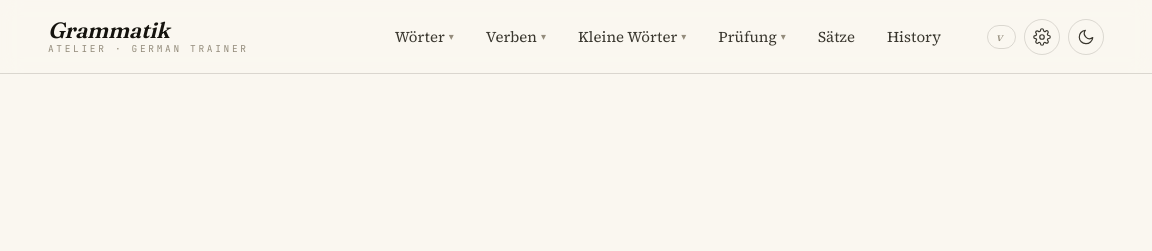
Scenario: NavShell › closes an open panel on Escape
Click the button with class "nav-trigger" showing "Verben ▾" at (516, 36), box top-left (472, 18), bottom-right (560, 55)
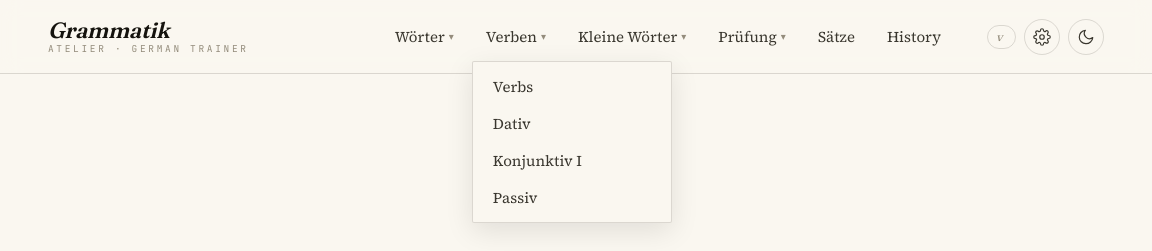
Check: the number of menus with class "nav-panel" is 1, box top-left (472, 61), bottom-right (672, 223)
Press Escape in the navigation bar with class "nav-links", box top-left (381, 18), bottom-right (955, 55)
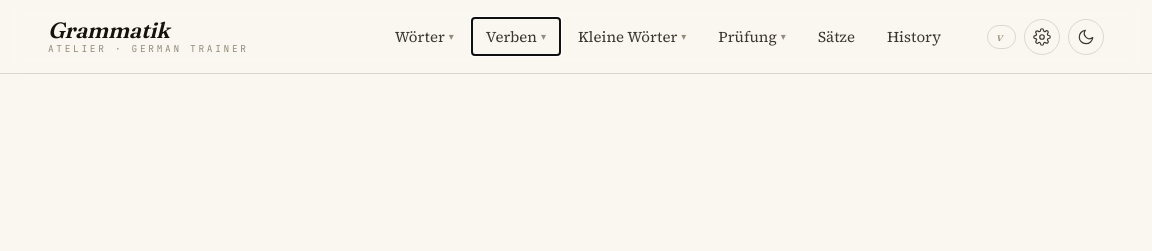
Check: no menus with class "nav-panel" are shown
